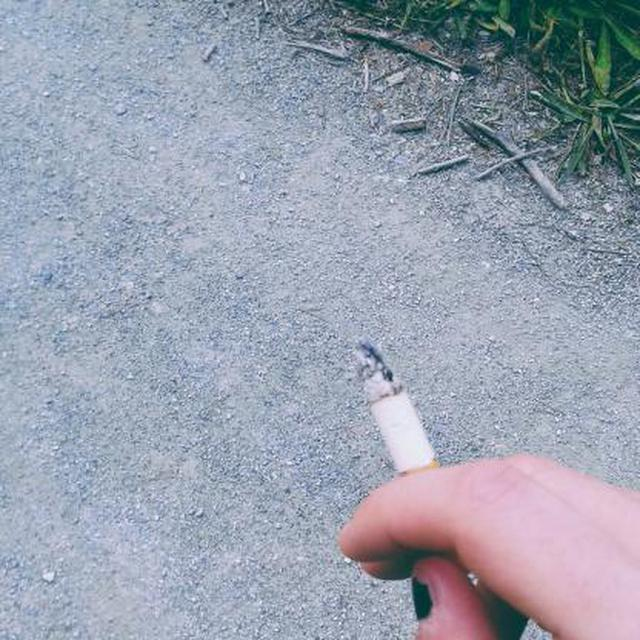smoking: (345, 339, 474, 512)
